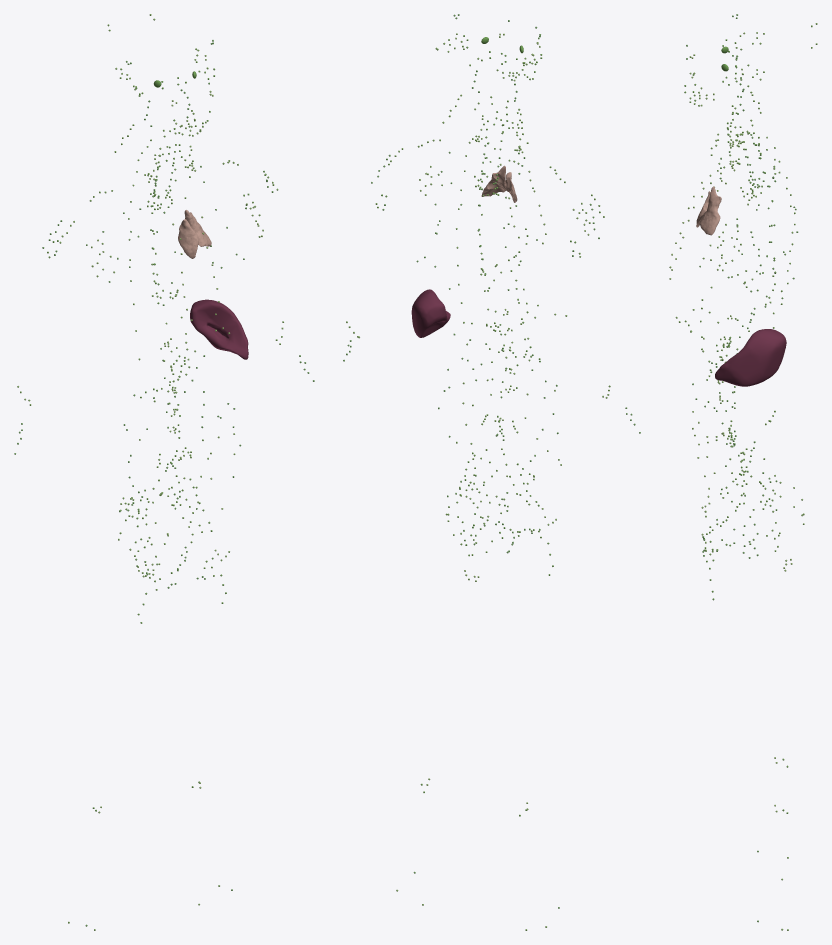
File: lymph.glb
3 views of the same model, side by side, from view 1: azimuth 30°, elevation 25°; view 2: azimuth 150°, elevation 25°; view 3: azimuth 270°, elevation 25° (orthographic).
Visible parts, largest first — view 1: y133; view 2: y133; view 3: y133, y84.
Boxes of the visible parts, x1,y1,x2,y2 form: y133: [190, 299, 248, 359]; y133: [411, 289, 450, 337]; y133: [715, 329, 786, 386]; y84: [699, 186, 721, 235].
Size of the model in its own units: 45.23 by 128 by 19.63.
